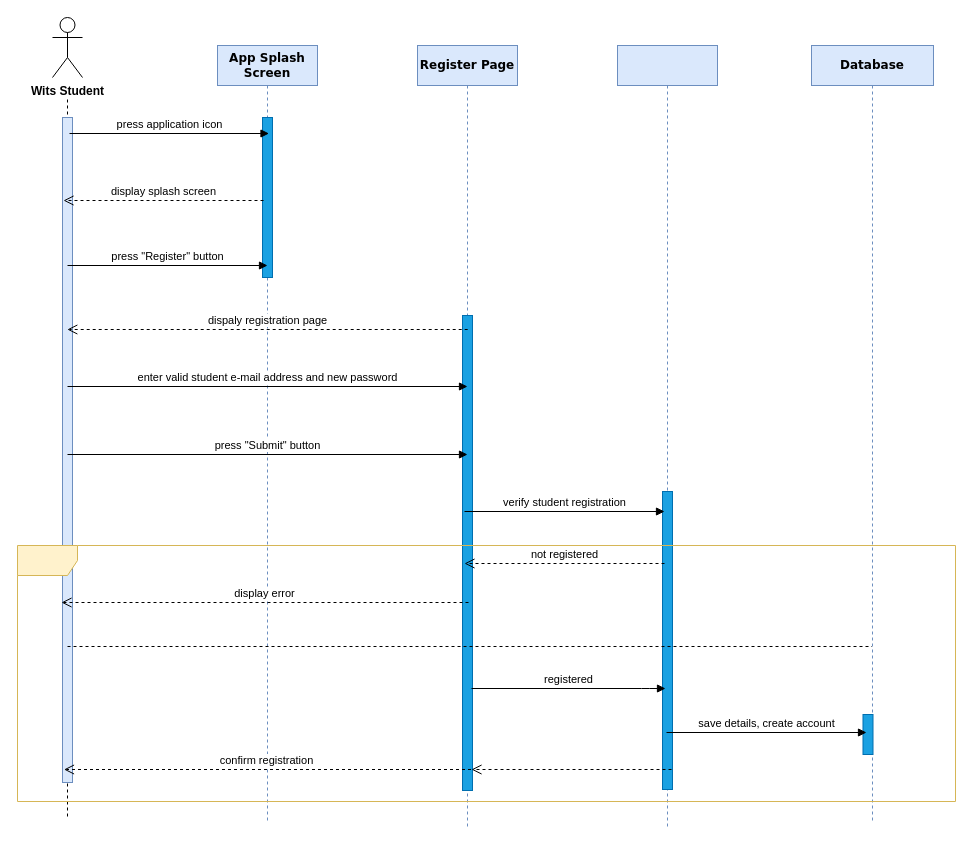
Image size: 973x845. Some labels were removed from this diagram. The box of each missing label's shape, as (x1, y1, x2, y2) in pixels:
Admin: (616, 44, 718, 828)
alt: (16, 544, 956, 802)
